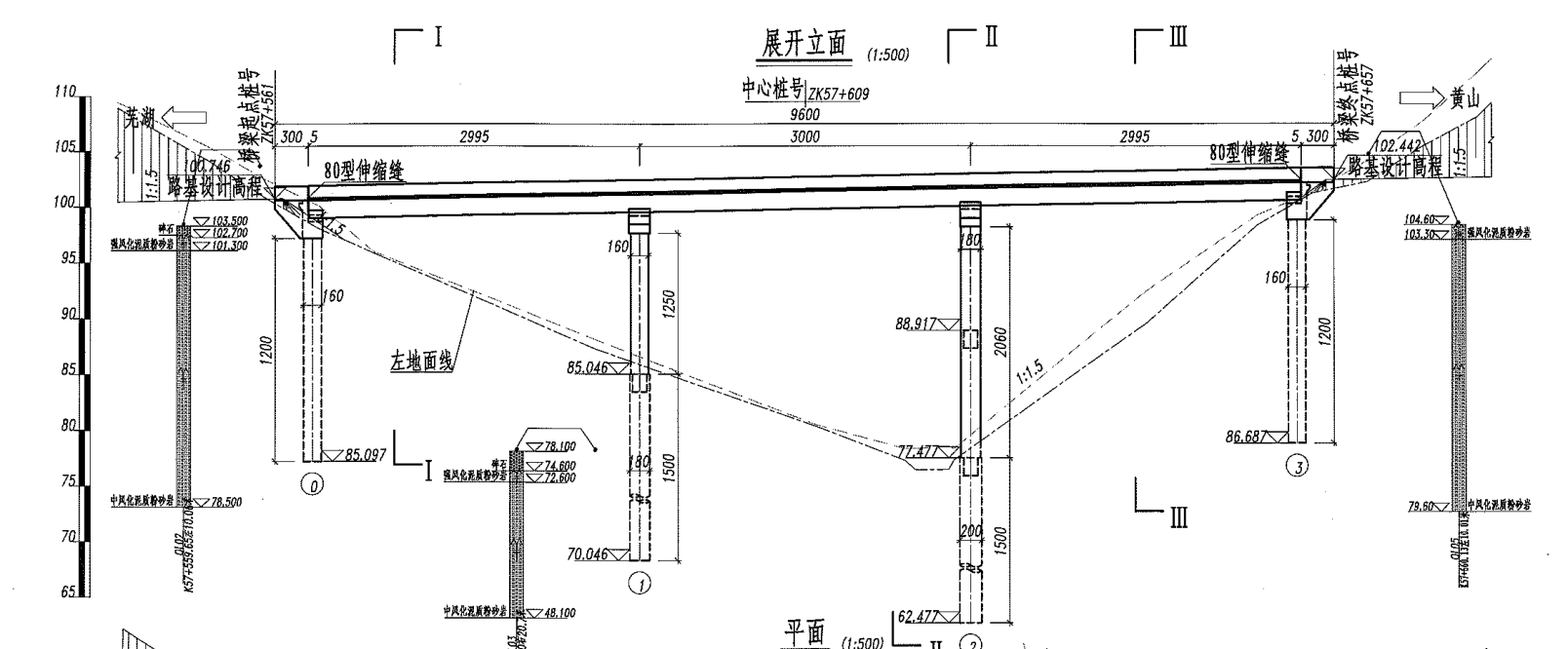A: (270, 101, 1336, 132)
C: (878, 194, 1002, 649), (553, 205, 669, 604), (1214, 186, 1322, 482)
